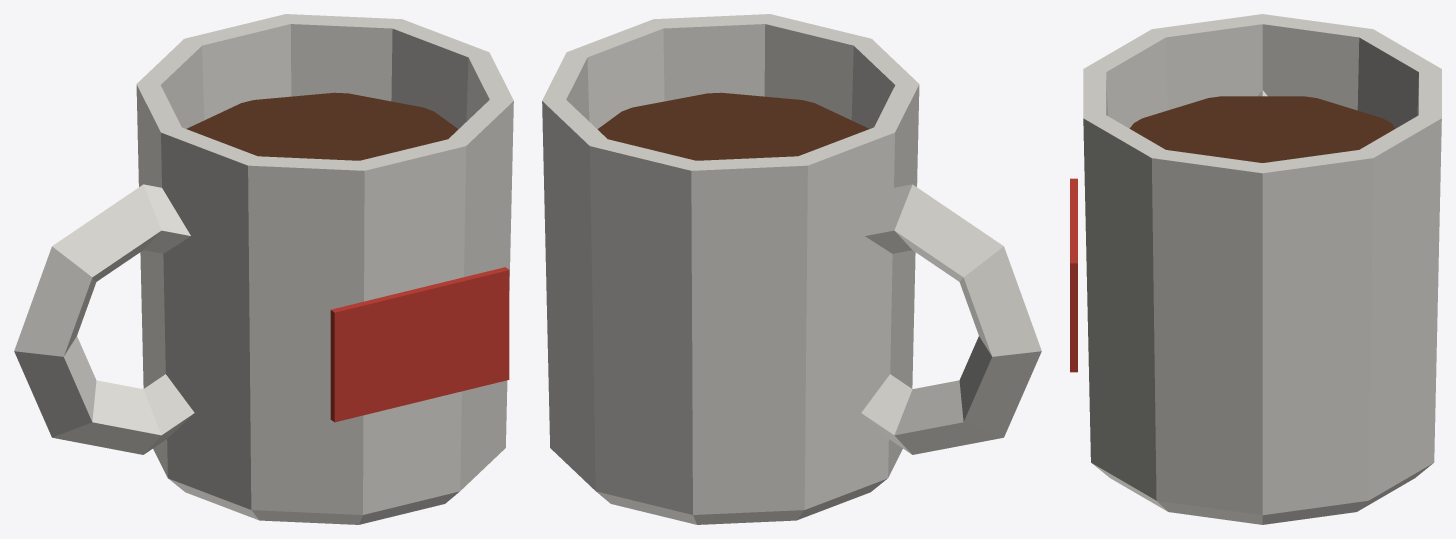
Rendered from mug.fbx.
The picture shows the model from 3 angles, left to right: view 1: azimuth 30°, elevation 25°; view 2: azimuth 150°, elevation 25°; view 3: azimuth 270°, elevation 25°; orthographic projection.
Visible parts, largest first — view 1: mug; view 2: mug; view 3: mug.
Part boxes in pixels (bbox=[...]): mug: bbox=[14, 14, 513, 524]; mug: bbox=[542, 14, 1041, 524]; mug: bbox=[1070, 14, 1441, 524].
Size of the model in its own units: 0.544 by 0.4 by 0.3708.
